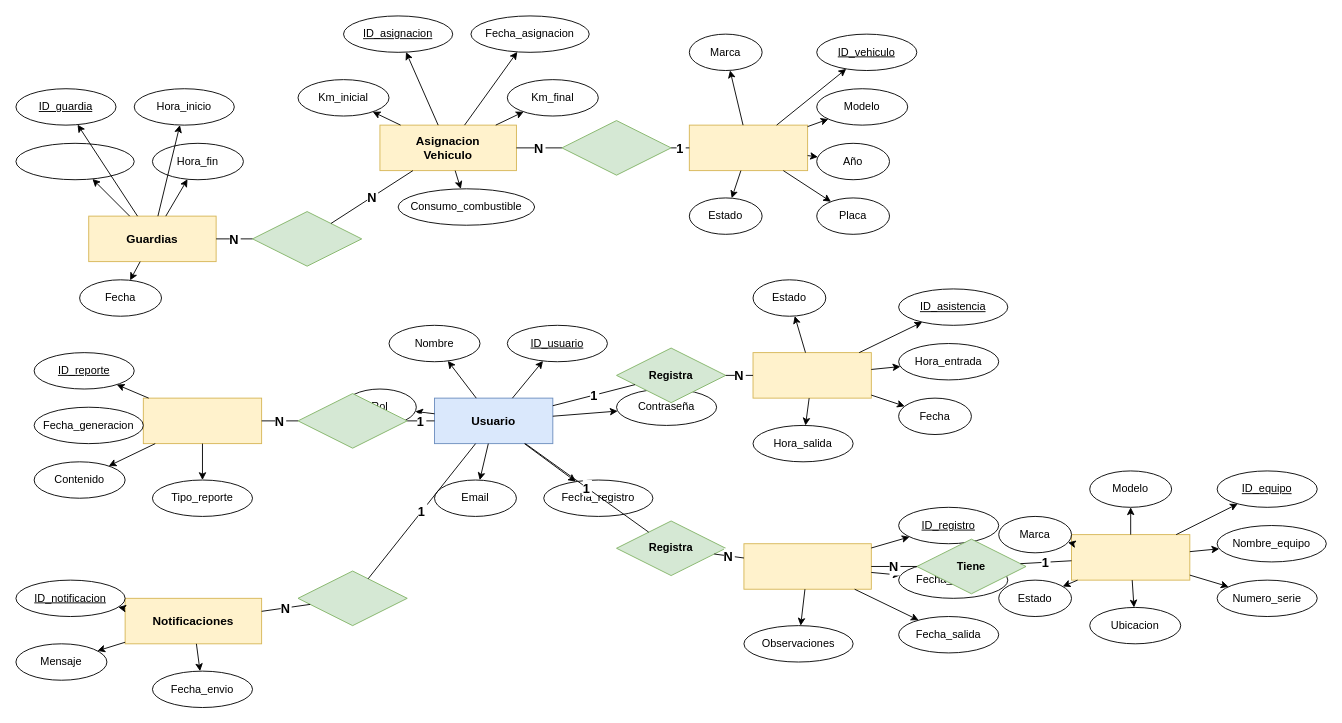
This 1342x723 diagram has some shape labels left out. The shapes that lost their labels are listed below. From the top down, each one's box as (x1, y1, x2, y2) in pixels, then its label:
(15, 142, 134, 180): Responsabilidades
(561, 120, 671, 175): Asignado a
(688, 124, 808, 171): Vehiculo
(252, 211, 362, 266): Asigna
(752, 352, 871, 398): Asistencia
(142, 397, 262, 444): Reportes
(297, 393, 407, 448): Genera
(743, 543, 871, 589): Registro Inv Equipo
(1071, 534, 1190, 580): Equipo
(297, 570, 407, 626): Recibe
